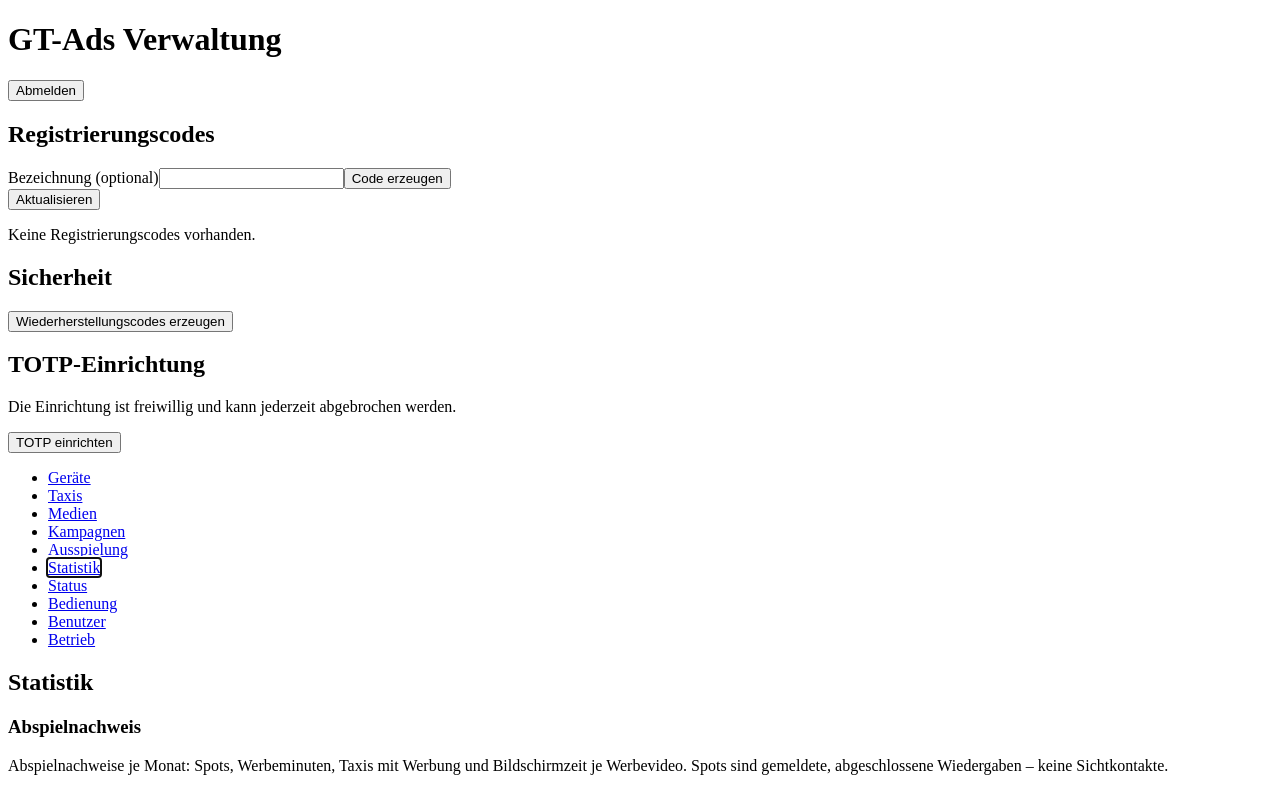
it: CX-034 Dashboard-Navigation › bedient alle Navigationsziele, Direktaufruf per Hash, Zurück/Vorwärts und unbekannte Adressen
The width and height of the screenshot is (1280, 788).
Earlier steps of the test are not shown.
Later steps or results of the test are not shown.
Expected: the heading "Statistik" is shown, x1=8 y1=669 x2=93 y2=695
Click the link "Status".
click(68, 586)  # box x1=48 y1=577 x2=87 y2=594
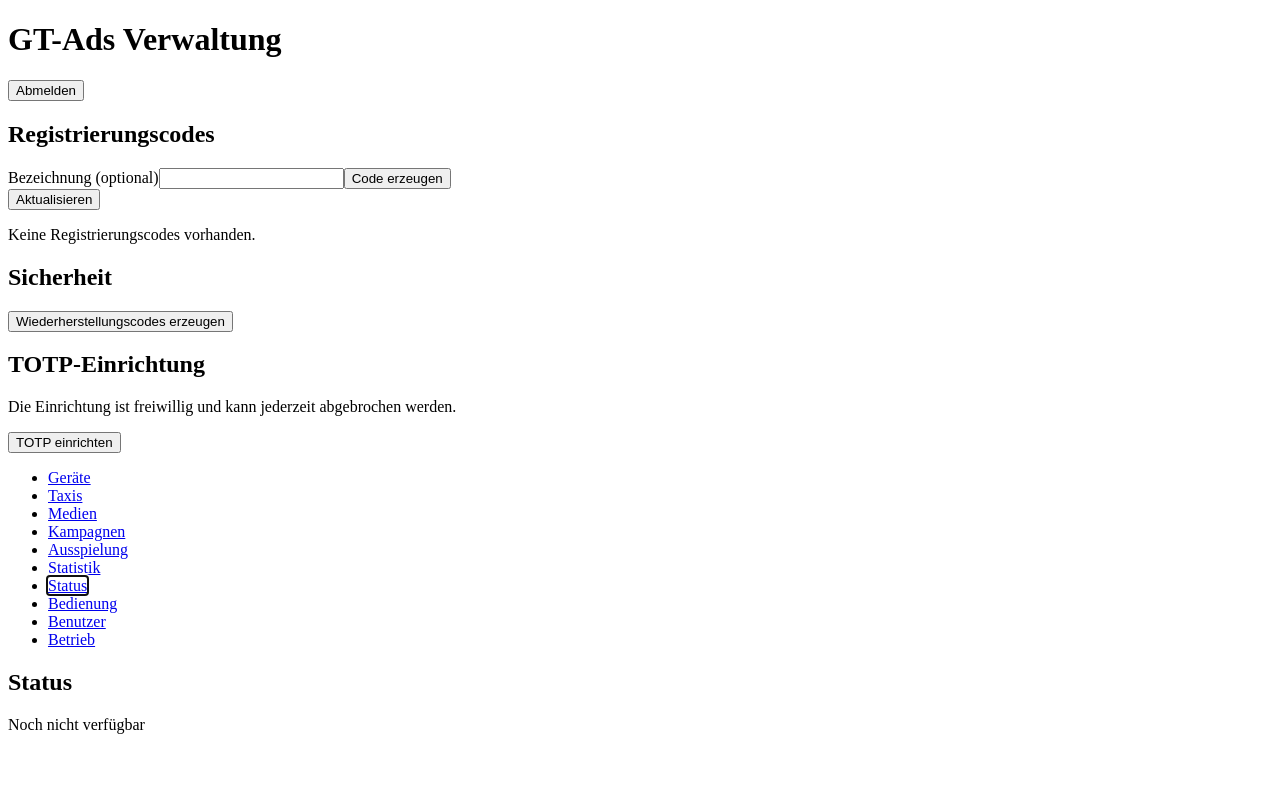
Now the heading "Status" is shown, box x1=8 y1=669 x2=72 y2=695
Click the link "Bedienung".
click(83, 604)  # box x1=48 y1=595 x2=117 y2=612
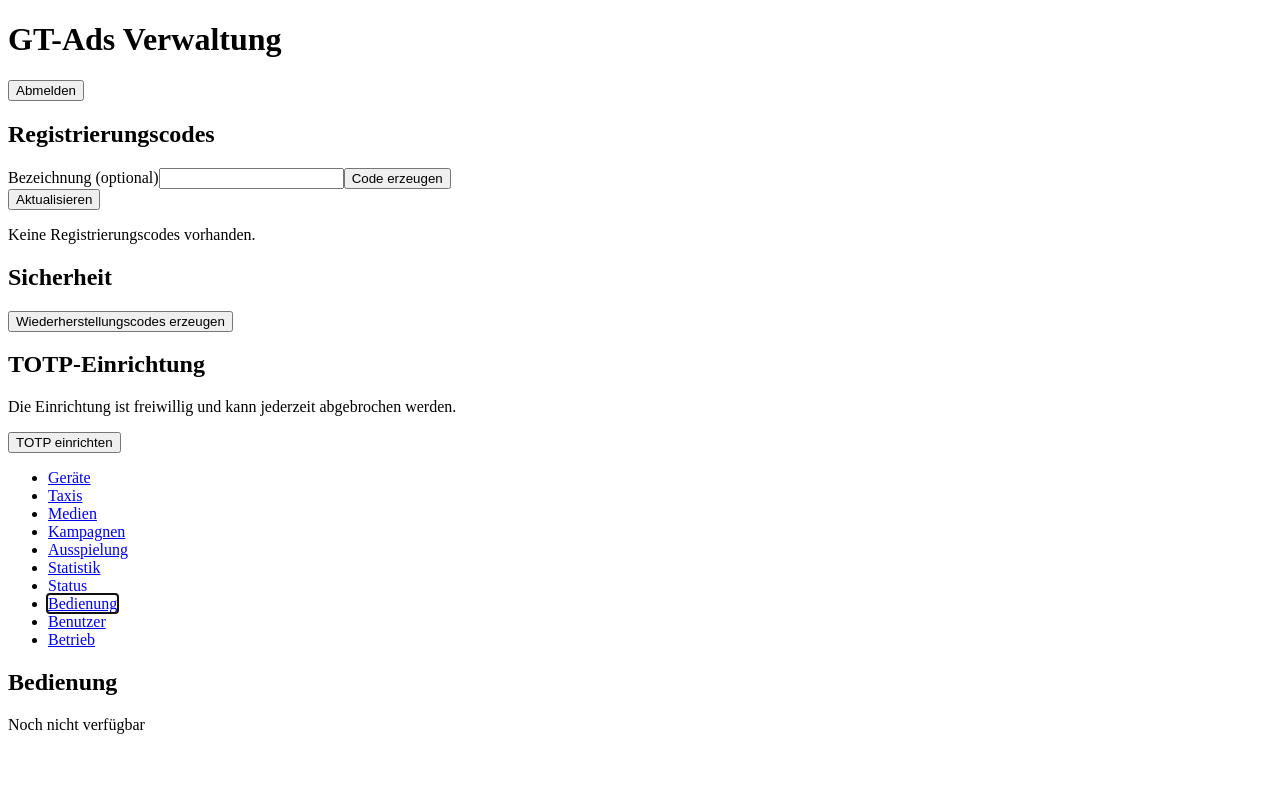
Now the heading "Bedienung" is shown, box x1=8 y1=669 x2=117 y2=695
Click the link "Benutzer".
click(77, 622)  # box x1=48 y1=613 x2=106 y2=630
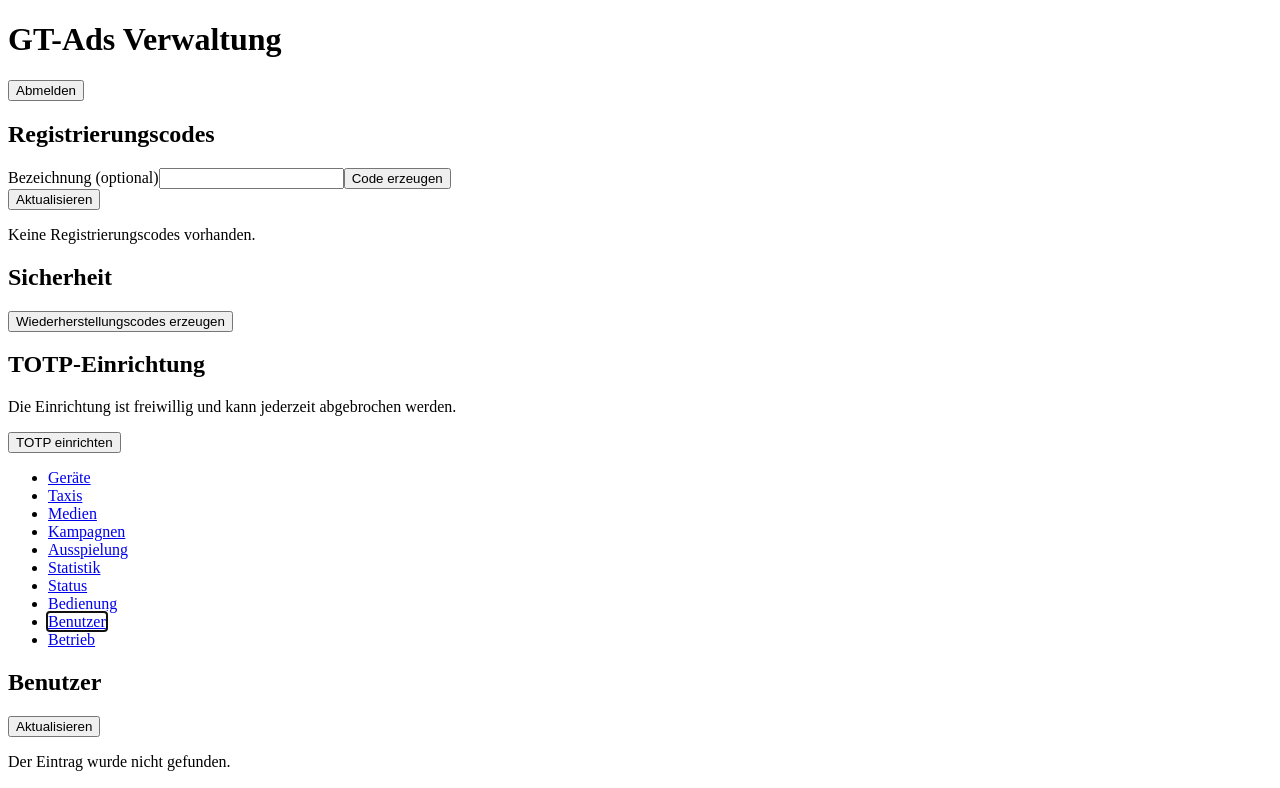
Now the heading "Benutzer" is shown, box x1=8 y1=669 x2=101 y2=695
Click the link "Betrieb".
click(72, 640)  # box x1=48 y1=631 x2=95 y2=648
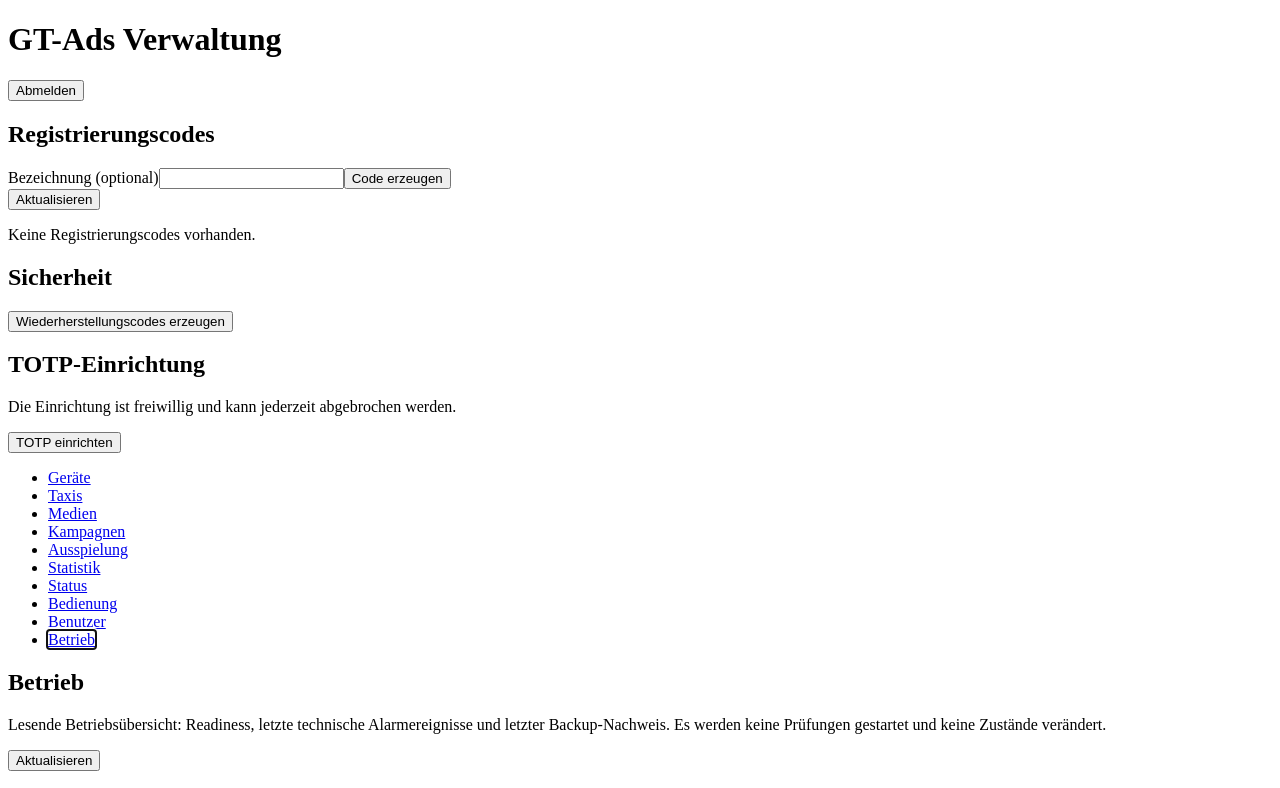
Now the heading "Betrieb" is shown, box x1=8 y1=669 x2=84 y2=695
Click the link "Taxis".
click(65, 496)  # box x1=48 y1=487 x2=82 y2=504
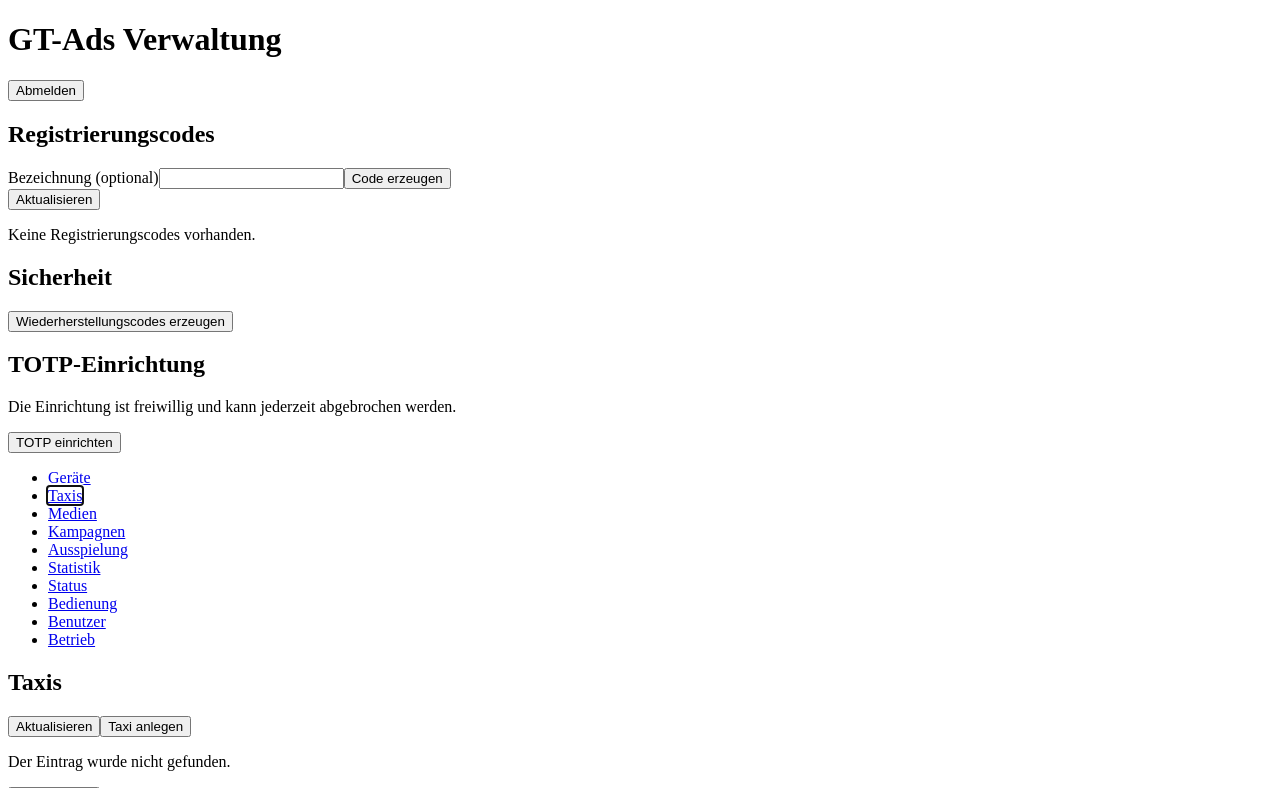
Now the heading "Taxis" is shown, box x1=8 y1=669 x2=62 y2=695
Click the link "Betrieb".
click(72, 640)  # box x1=48 y1=631 x2=95 y2=648
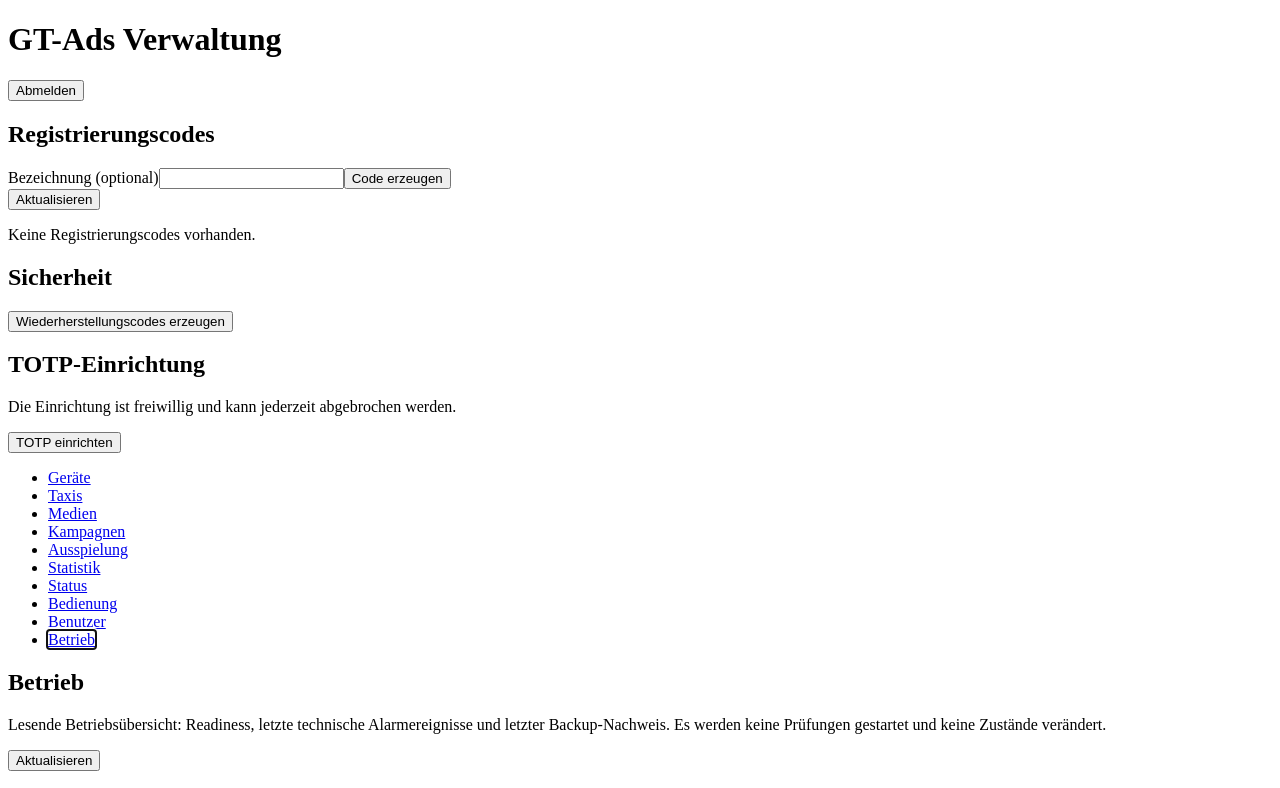
Now the heading "Betrieb" is shown, box x1=8 y1=669 x2=84 y2=695
